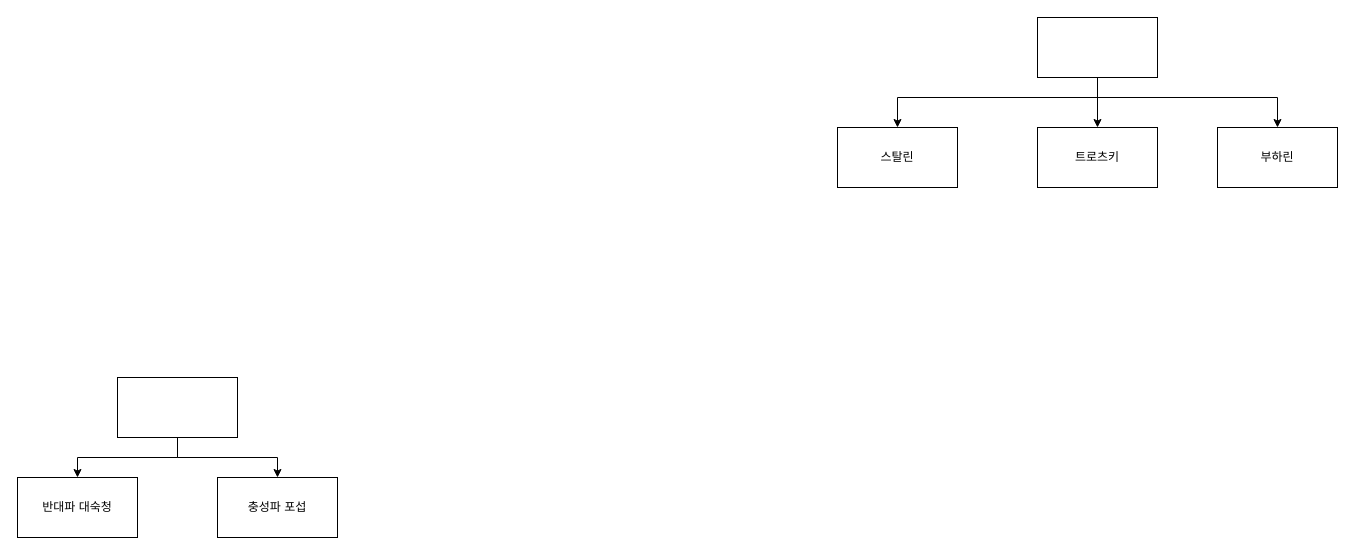
This 1355x555 diagram has some shape labels left out. Each missing label, with the box of its shape:
강철 통치: (116, 376, 238, 438)
후계자 문제: (1036, 16, 1158, 78)
